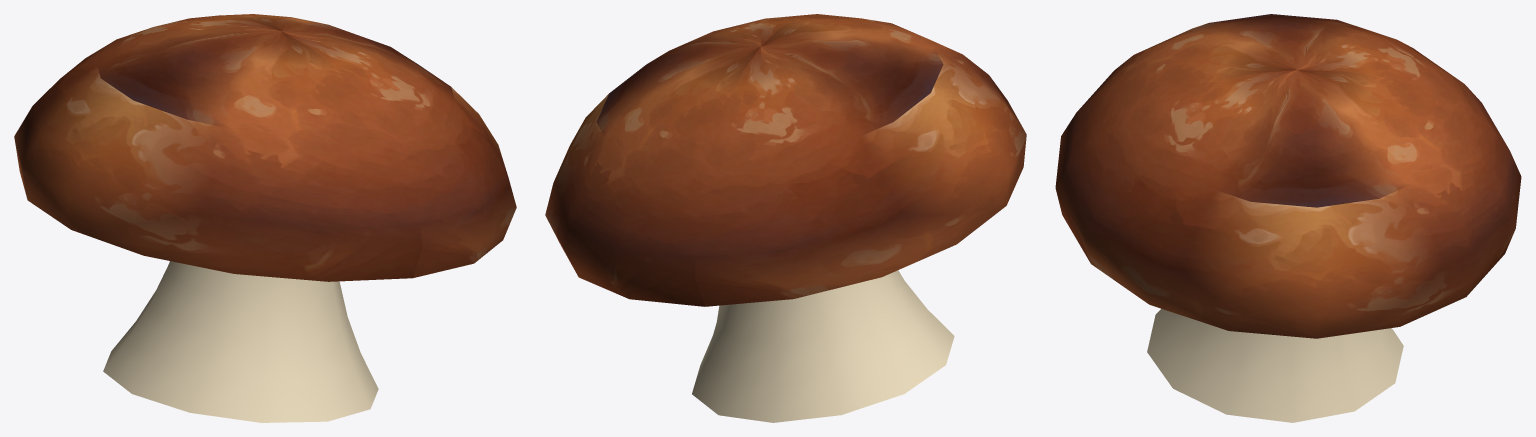
File: porcini1.glb
3 renders of one model, left to right at view 1: azimuth 30°, elevation 25°; view 2: azimuth 150°, elevation 25°; view 3: azimuth 270°, elevation 25°, orthographic. The views are drawn at different scales.
Parts seen in each view (by area): view 1: porcini1_cap_LOD0, porcini1_stem_LOD0; view 2: porcini1_cap_LOD0, porcini1_stem_LOD0; view 3: porcini1_cap_LOD0, porcini1_stem_LOD0.
Boxes of the visible parts, left/top/right/bottom form: porcini1_cap_LOD0: left=14, top=14, right=516, bottom=281; porcini1_stem_LOD0: left=103, top=261, right=378, bottom=422; porcini1_cap_LOD0: left=545, top=14, right=1026, bottom=306; porcini1_stem_LOD0: left=692, top=270, right=954, bottom=422; porcini1_cap_LOD0: left=1055, top=14, right=1521, bottom=338; porcini1_stem_LOD0: left=1147, top=308, right=1403, bottom=422.
Size of what is drawn, in the model's own units: 0.2415 by 0.1901 by 0.2448.
3 materials, 1 textured.
